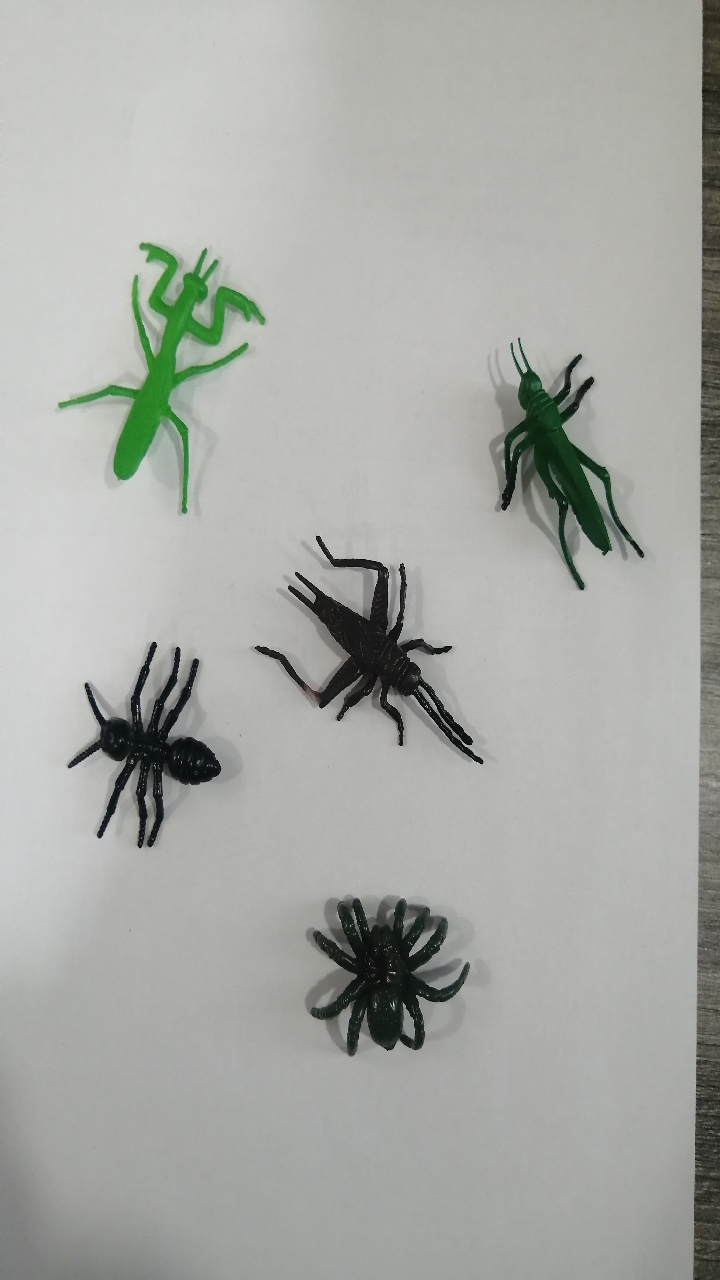intruso: (248, 495, 512, 819), (23, 197, 264, 549), (454, 291, 658, 622), (272, 852, 503, 1103), (34, 606, 246, 866)
